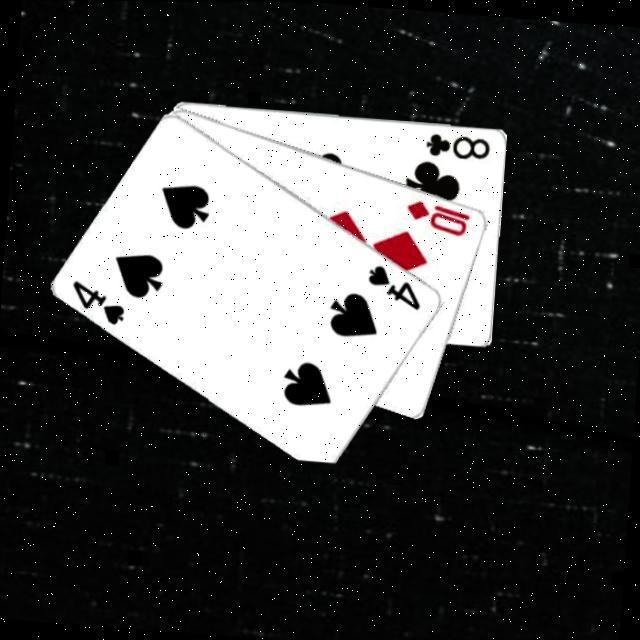10D: (404, 193, 476, 236)
4S: (365, 258, 428, 310), (69, 274, 132, 326)
8C: (424, 125, 496, 160)
